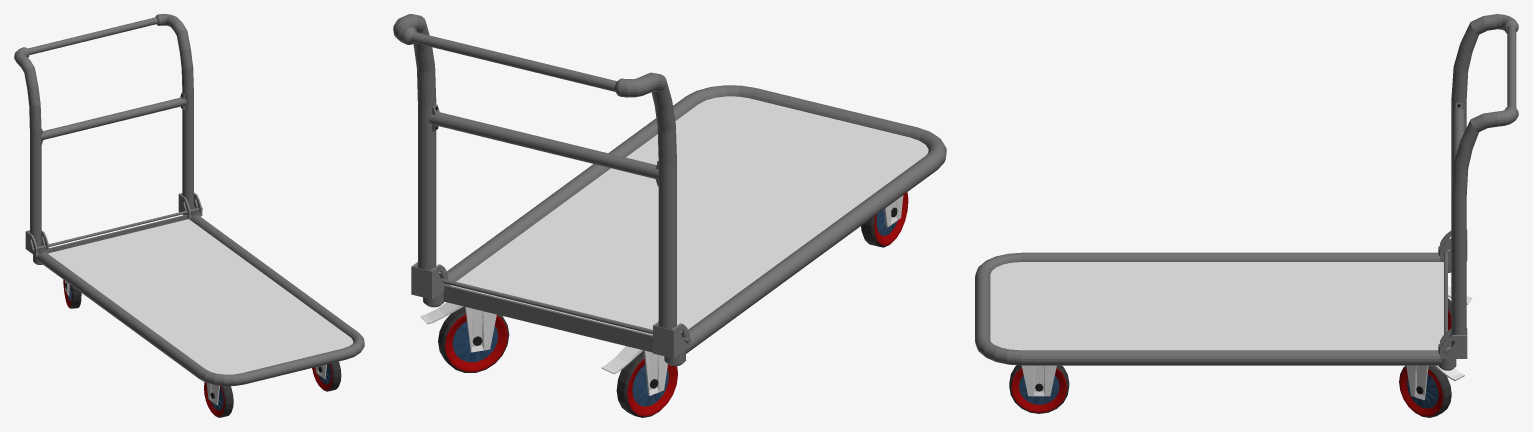
The model's file is Chariot_V1.3.fbx.
The picture shows the model from 3 angles, left to right: view 1: azimuth 30°, elevation 25°; view 2: azimuth 150°, elevation 25°; view 3: azimuth 270°, elevation 25°; orthographic projection. The views are drawn at different scales.
Visible parts, largest first — view 1: polySurface477; view 2: polySurface477; view 3: polySurface477.
Part boxes in pixels (bbox=[...]): polySurface477: bbox=[14, 14, 364, 417]; polySurface477: bbox=[393, 14, 946, 417]; polySurface477: bbox=[975, 14, 1518, 417].
Bounding box in the file's own units: 62.1 × 83.7 × 131.
